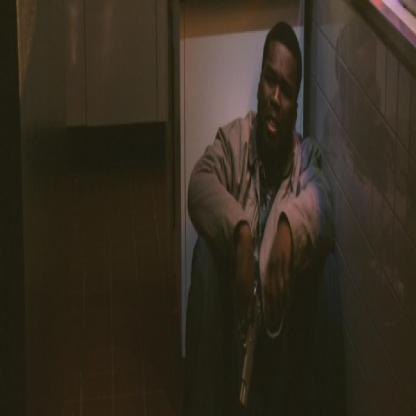Gun: (227, 252, 269, 414)
